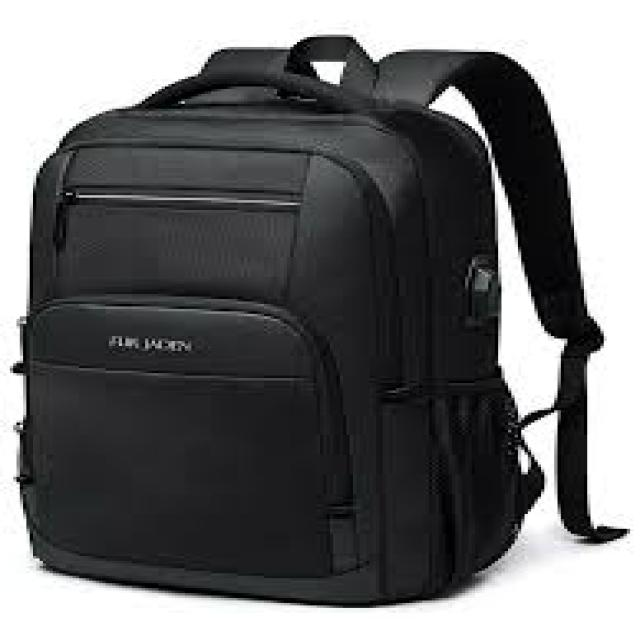backpack: (8, 33, 628, 607)
